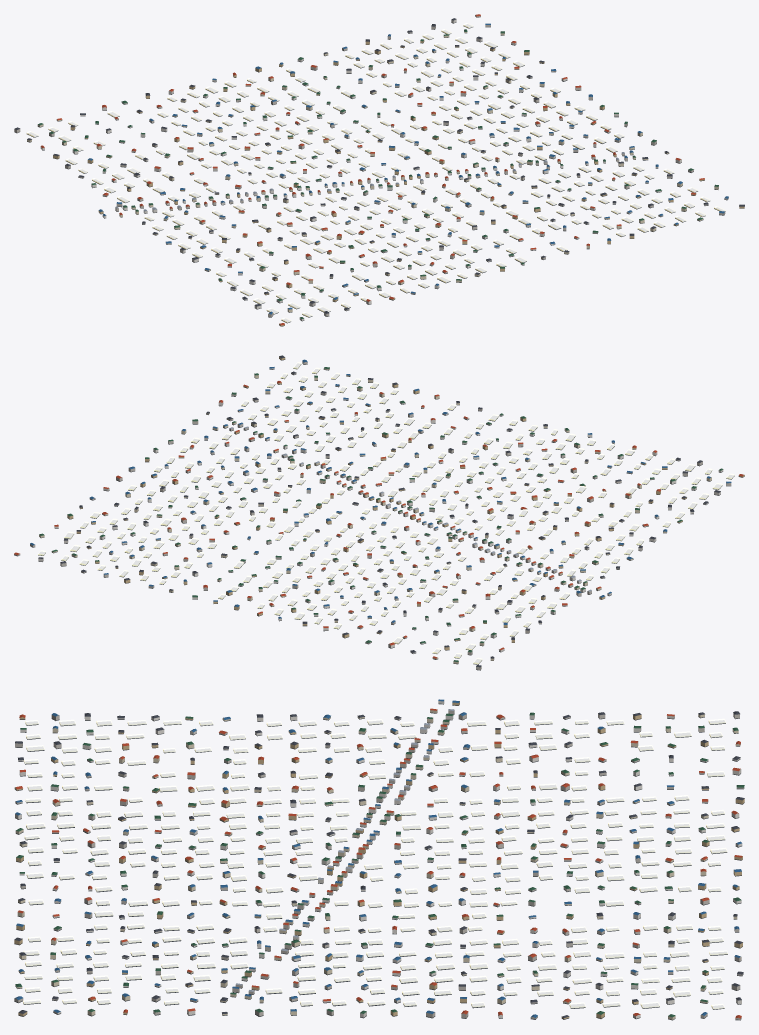
File: buildings_T_W04_N07.glb
3 views of the same model, one above another, from view 1: azimuth 30°, elevation 25°; view 2: azimuth 150°, elevation 25°; view 3: azimuth 270°, elevation 25° (orthographic). The views are drawn at different scales.
Visible parts, largest first — view 1: T_W04_N07_roofs_agri_greenhouse_arch, T_W04_N07_slope_seating_foundations, T_W04_N07_walls_wall_modern_warm_white, T_W04_N07_walls_wall_pastel_sand_gray, T_W04_N07_walls_wall_dalat_cream_stucco, T_W04_N07_walls_wall_french_ochre_villa, T_W04_N07_roofs_roof_highland_blue_gable, T_W04_N07_roofs_roof_pine_green_hip, T_W04_N07_roofs_roof_terracotta_gable, T_W04_N07_roofs_roof_slate_French_villa_hip; view 2: T_W04_N07_roofs_agri_greenhouse_arch, T_W04_N07_slope_seating_foundations, T_W04_N07_walls_wall_modern_warm_white, T_W04_N07_walls_wall_pastel_sand_gray, T_W04_N07_walls_wall_dalat_cream_stucco, T_W04_N07_walls_wall_french_ochre_villa, T_W04_N07_roofs_roof_highland_blue_gable, T_W04_N07_roofs_roof_pine_green_hip, T_W04_N07_roofs_roof_terracotta_gable, T_W04_N07_roofs_roof_slate_French_villa_hip; view 3: T_W04_N07_roofs_agri_greenhouse_arch, T_W04_N07_slope_seating_foundations, T_W04_N07_walls_wall_modern_warm_white, T_W04_N07_walls_wall_pastel_sand_gray, T_W04_N07_walls_wall_dalat_cream_stucco, T_W04_N07_walls_wall_french_ochre_villa, T_W04_N07_roofs_roof_highland_blue_gable, T_W04_N07_roofs_roof_terracotta_gable, T_W04_N07_roofs_roof_pine_green_hip, T_W04_N07_roofs_roof_slate_French_villa_hip.
Part boxes in pixels (x1,y1,x2,y2): T_W04_N07_roofs_agri_greenhouse_arch: (26,23,725,322); T_W04_N07_slope_seating_foundations: (14,16,744,326); T_W04_N07_walls_wall_modern_warm_white: (40,19,728,320); T_W04_N07_walls_wall_pastel_sand_gray: (14,15,725,317); T_W04_N07_walls_wall_dalat_cream_stucco: (27,32,718,312); T_W04_N07_walls_wall_french_ochre_villa: (53,40,744,326); T_W04_N07_roofs_roof_highland_blue_gable: (88,23,728,314); T_W04_N07_roofs_roof_pine_green_hip: (38,29,718,318); T_W04_N07_roofs_roof_terracotta_gable: (41,14,704,325); T_W04_N07_roofs_roof_slate_French_villa_hip: (14,18,744,313); T_W04_N07_roofs_agri_greenhouse_arch: (38,362,734,664); T_W04_N07_slope_seating_foundations: (14,358,744,670); T_W04_N07_walls_wall_modern_warm_white: (38,368,723,653); T_W04_N07_walls_wall_pastel_sand_gray: (14,361,731,669); T_W04_N07_walls_wall_dalat_cream_stucco: (39,368,711,663); T_W04_N07_walls_wall_french_ochre_villa: (67,357,744,650); T_W04_N07_roofs_roof_highland_blue_gable: (30,359,731,624); T_W04_N07_roofs_roof_pine_green_hip: (39,367,723,661); T_W04_N07_roofs_roof_terracotta_gable: (14,381,743,658); T_W04_N07_roofs_roof_slate_French_villa_hip: (38,355,720,667); T_W04_N07_roofs_agri_greenhouse_arch: (23,718,727,1009); T_W04_N07_slope_seating_foundations: (14,703,744,1020); T_W04_N07_walls_wall_modern_warm_white: (15,700,742,1018); T_W04_N07_walls_wall_pastel_sand_gray: (14,710,744,1019); T_W04_N07_walls_wall_dalat_cream_stucco: (15,709,740,1019); T_W04_N07_walls_wall_french_ochre_villa: (14,701,744,1019); T_W04_N07_roofs_roof_highland_blue_gable: (15,699,741,1017); T_W04_N07_roofs_roof_terracotta_gable: (16,708,742,1018); T_W04_N07_roofs_roof_pine_green_hip: (15,712,744,1017); T_W04_N07_roofs_roof_slate_French_villa_hip: (14,711,744,1017).
Size of the model in its own units: 1828 by 36.46 by 1756.
